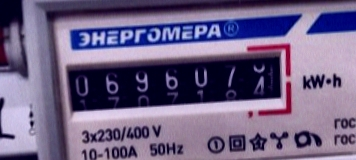0: (71, 72, 89, 97), (190, 62, 207, 88)
4: (248, 73, 266, 98)
6: (160, 65, 179, 90), (101, 70, 119, 95)
7: (220, 62, 237, 89)
9: (131, 68, 148, 93)
screen: (50, 36, 297, 126)
